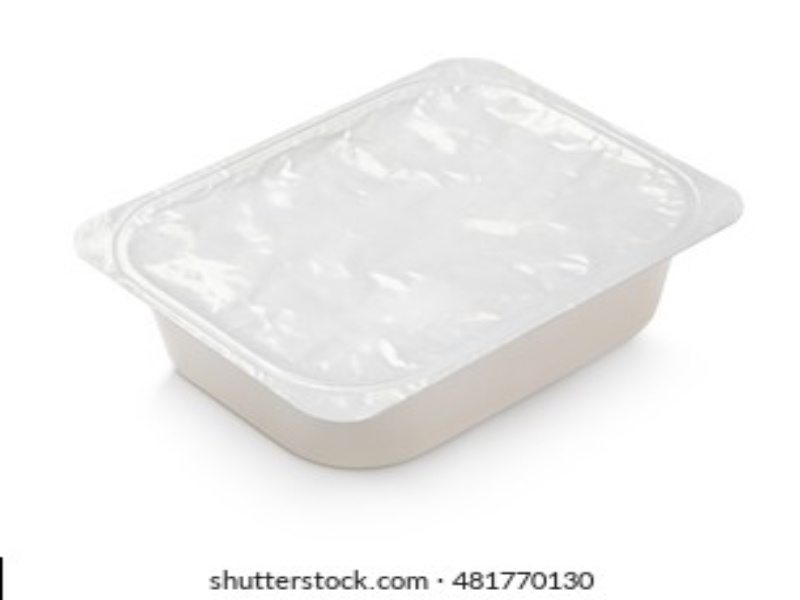Aluminium_Foil: (59, 56, 764, 487)
